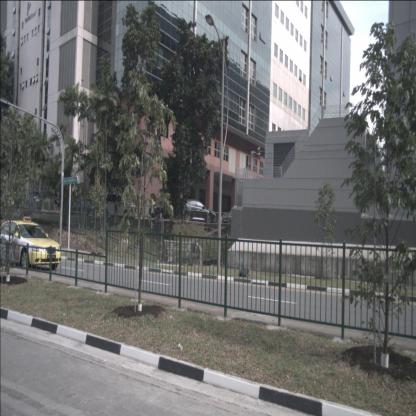vehicle-car: (0, 219, 62, 270), (98, 192, 136, 219), (182, 199, 217, 224), (149, 200, 175, 219), (222, 207, 243, 224)
